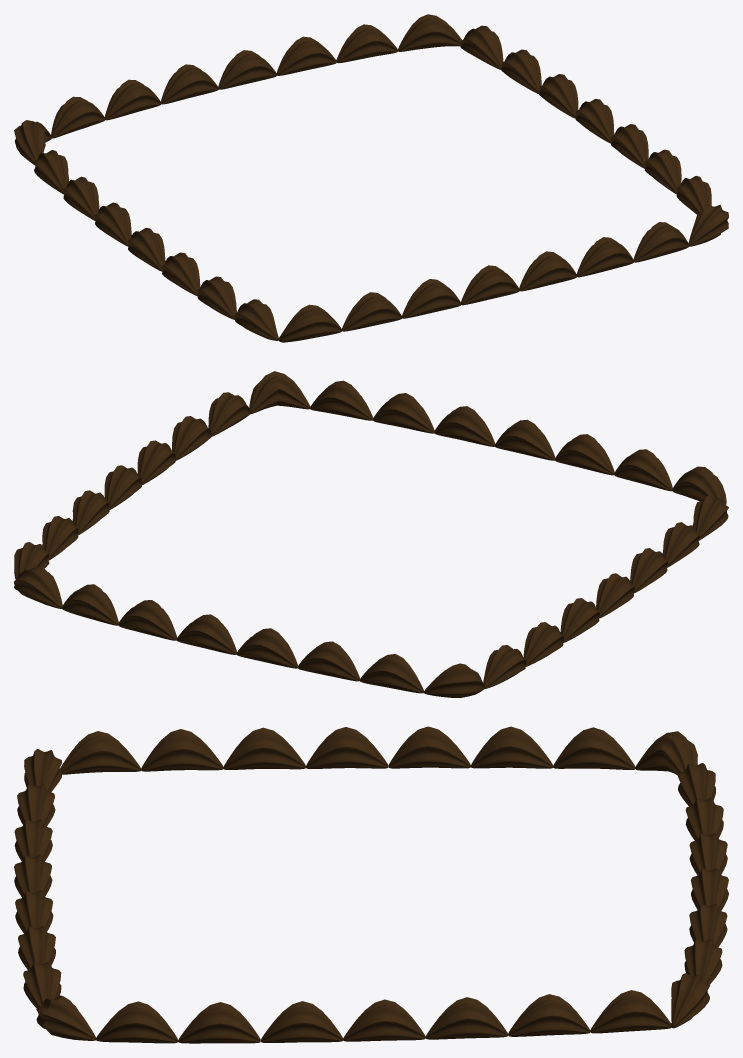
File: DecoGlazeChoco.glb
3 views of the same model, one above another, from view 1: azimuth 30°, elevation 25°; view 2: azimuth 150°, elevation 25°; view 3: azimuth 270°, elevation 25° (orthographic). The views are drawn at different scales.
Parts seen in each view (by area): view 1: Star.029; view 2: Star.029; view 3: Star.029.
Part boxes in pixels (x1,y1,x2,y2): Star.029: (14, 14, 728, 342); Star.029: (14, 371, 728, 697); Star.029: (14, 726, 728, 1043).
Bounding box in the file's own units: 1.86 × 0.1407 × 1.91.
